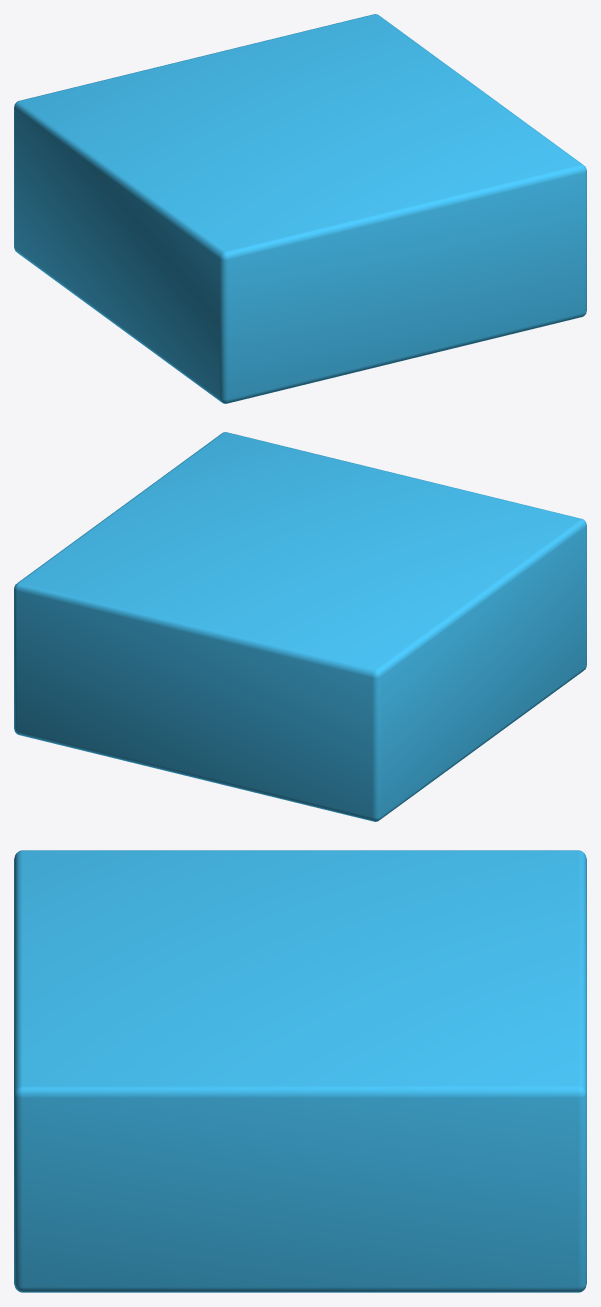
3 renders of one model, top to bottom at view 1: azimuth 30°, elevation 25°; view 2: azimuth 150°, elevation 25°; view 3: azimuth 270°, elevation 25°, orthographic. The views are drawn at different scales.
Size of the model in its own units: 110 by 43.65 by 110.
